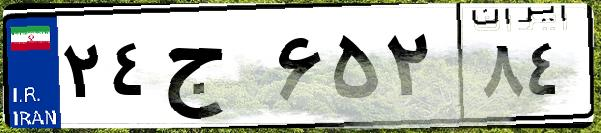2: (385, 28, 445, 110), (57, 26, 110, 100)
4: (525, 38, 570, 115), (110, 28, 158, 98)
5: (330, 28, 385, 110)
6: (270, 28, 330, 110)
8: (475, 38, 525, 113)
ج: (158, 20, 270, 120)
